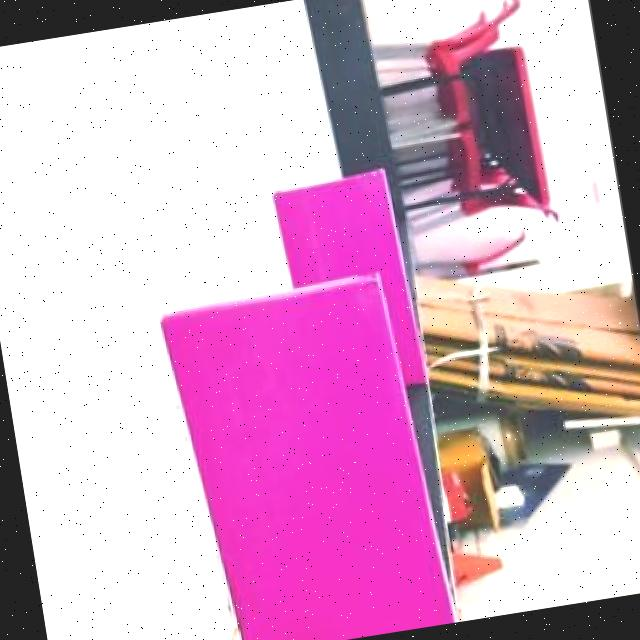xparking: (177, 281, 435, 640), (275, 173, 399, 286)
